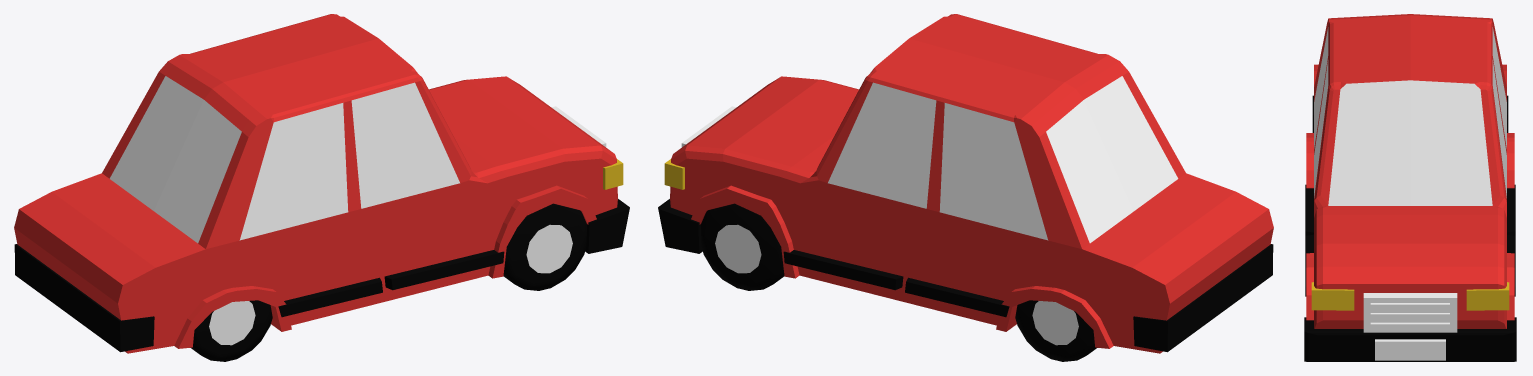
The model's file is Car Final.fbx.
3 views of the same model, side by side, from view 1: azimuth 30°, elevation 25°; view 2: azimuth 150°, elevation 25°; view 3: azimuth 270°, elevation 25° (orthographic). The views are drawn at different scales.
Parts seen in each view (by area): view 1: car Final; view 2: car Final; view 3: car Final.
Boxes of the visible parts, bbox=[...] form: car Final: bbox=[14, 14, 629, 361]; car Final: bbox=[658, 14, 1273, 361]; car Final: bbox=[1304, 14, 1516, 361].
Bounding box in the file's own units: 310 × 136 × 120.
